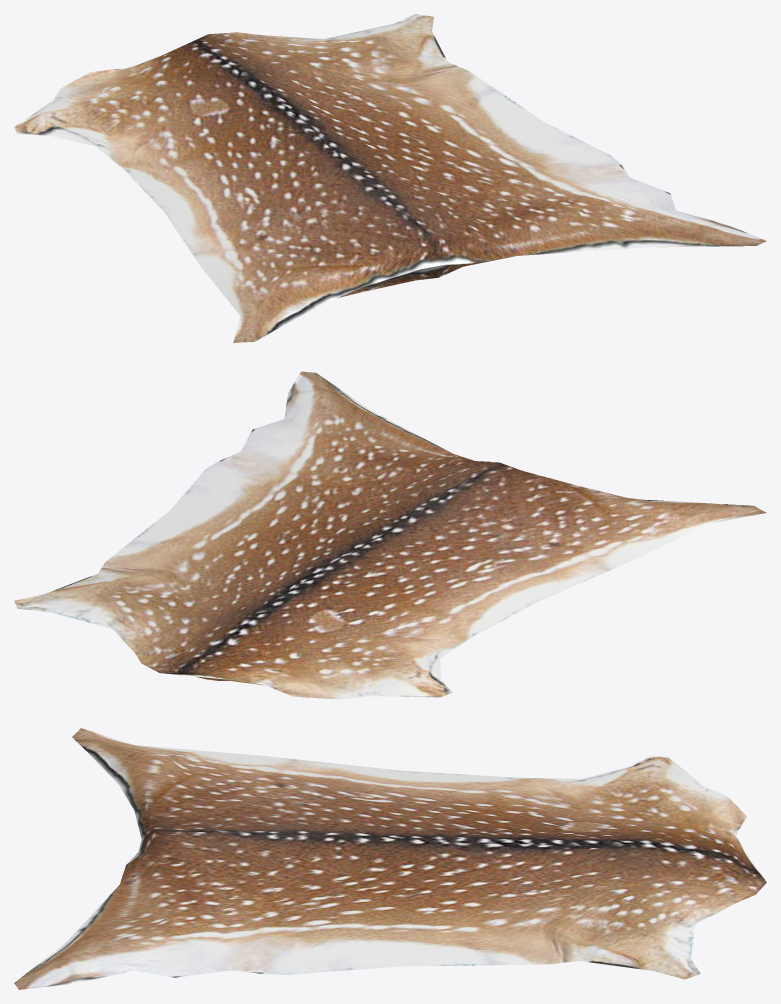
Rendered from deer skin.fbx.
The picture shows the model from 3 angles, top to bottom: view 1: azimuth 30°, elevation 25°; view 2: azimuth 150°, elevation 25°; view 3: azimuth 270°, elevation 25°; orthographic projection. The views are drawn at different scales.
Parts seen in each view (by area): view 1: polySurface5; view 2: polySurface5; view 3: polySurface5.
Boxes of the visible parts, box(x1,y1,x2,y2) form: polySurface5: box(14, 14, 766, 342); polySurface5: box(14, 371, 766, 699); polySurface5: box(14, 728, 766, 989).
Size of the model in its own units: 3.68 by 0.2783 by 4.47.
Materials: 1 (1 with a texture image).
